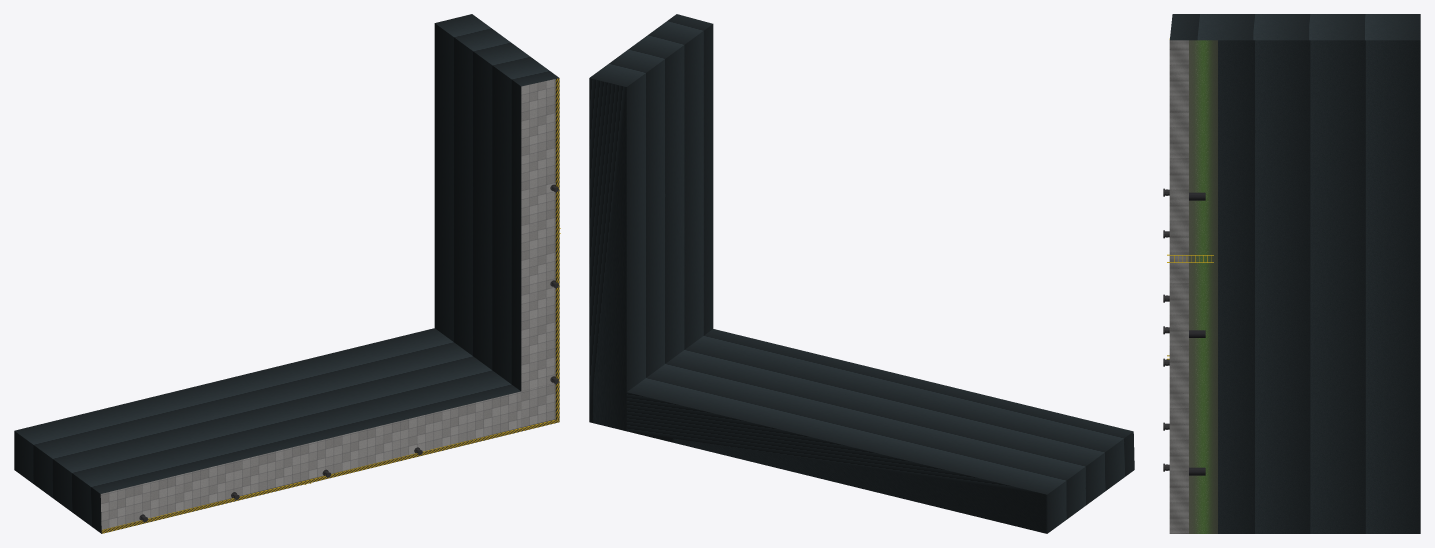
Rendered from harbor_wall_l_shape_outer.obj.
The picture shows the model from 3 angles, left to right: view 1: azimuth 30°, elevation 25°; view 2: azimuth 150°, elevation 25°; view 3: azimuth 270°, elevation 25°; orthographic projection. The views are drawn at different scales.
Size of the model in its own units: 55.3 by 39.8 by 18.68.
Materials: 8 (8 with a texture image).
